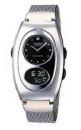watch: (12, 20, 59, 105)
